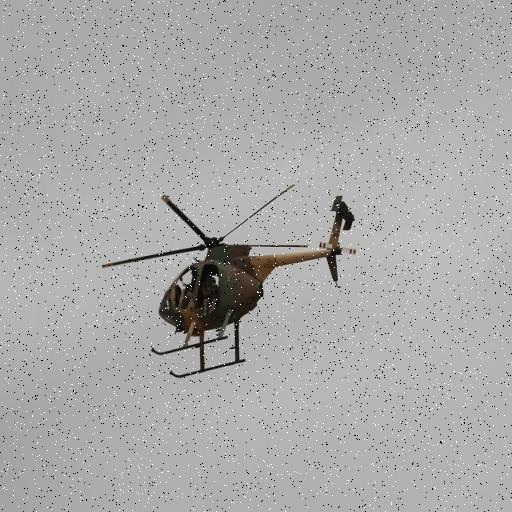helicopter: (102, 166, 366, 383)
